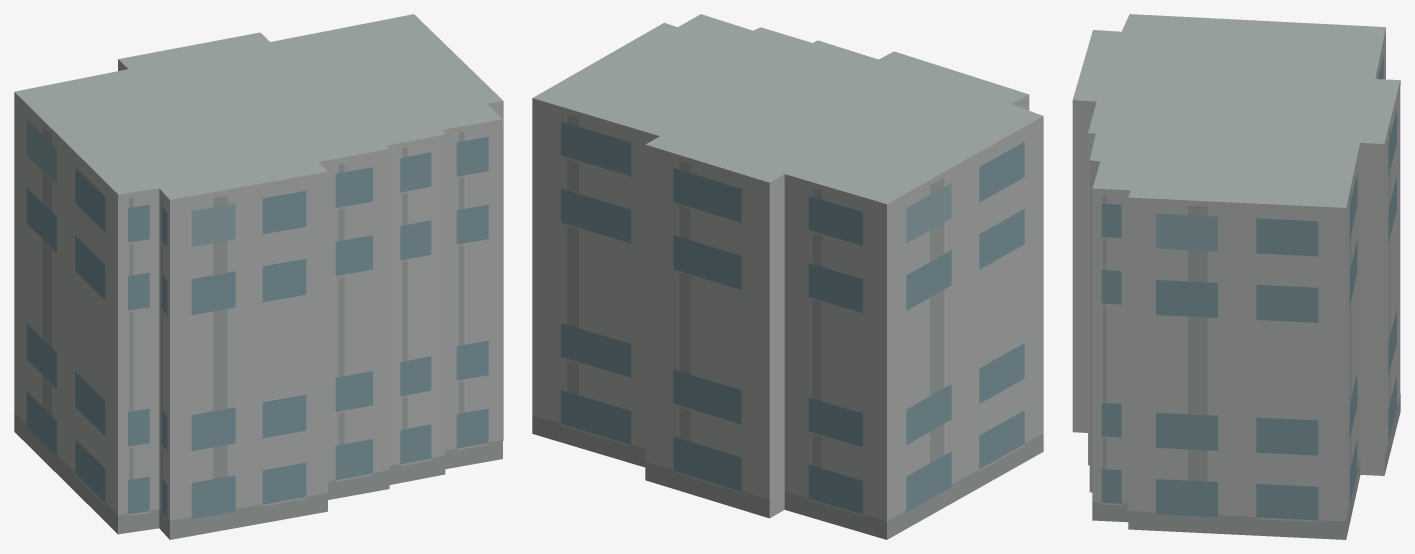
Rendered from survey-upis-32806963.glb.
3 renders of one model, left to right at view 1: azimuth 30°, elevation 25°; view 2: azimuth 150°, elevation 25°; view 3: azimuth 270°, elevation 25°, orthographic. The views are drawn at different scales.
Visible parts, largest first — view 1: survey-upis-32806963.tmp; view 2: survey-upis-32806963.tmp; view 3: survey-upis-32806963.tmp.
Boxes of the visible parts, box(x1,y1,x2,y2) form: survey-upis-32806963.tmp: box(14, 14, 503, 539); survey-upis-32806963.tmp: box(532, 14, 1043, 539); survey-upis-32806963.tmp: box(1072, 14, 1400, 539).
Bounding box in the file's own units: 18.49 × 14.75 × 13.21.
